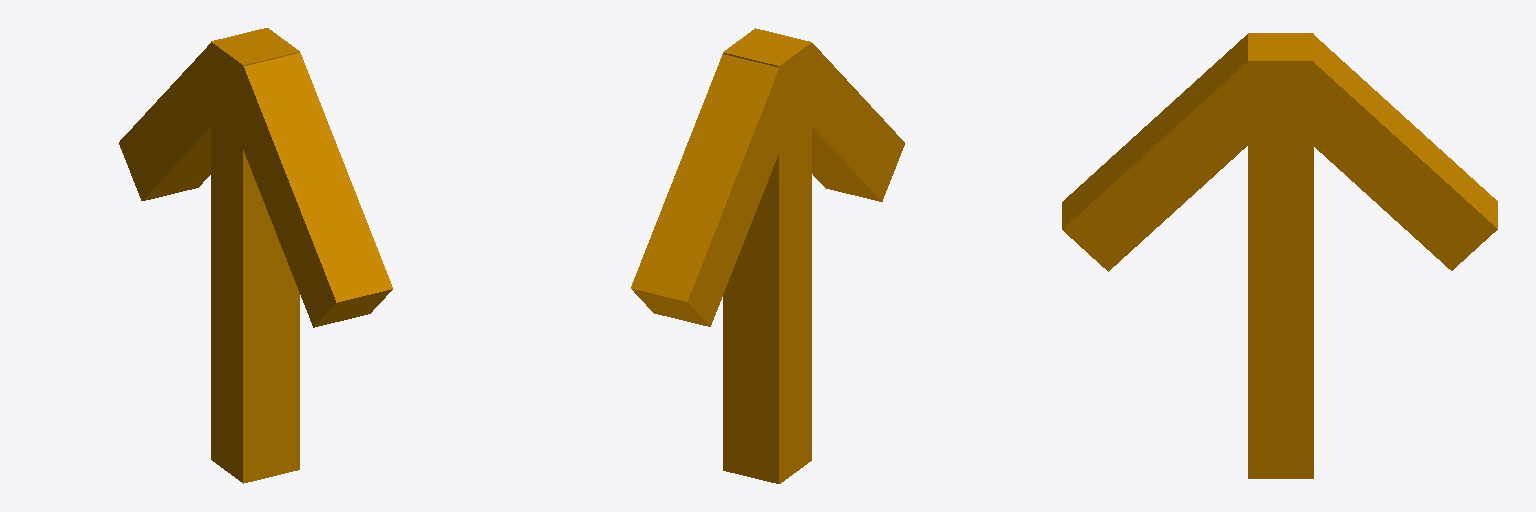
Rendered from arrow.obj.
The picture shows the model from 3 angles: view 1: azimuth 30°, elevation 25°; view 2: azimuth 150°, elevation 25°; view 3: azimuth 270°, elevation 25°; orthographic projection.
Visible parts, largest first — view 1: Cube.001_Cube.002; view 2: Cube.001_Cube.002; view 3: Cube.001_Cube.002.
Boxes of the visible parts, x1=… form: Cube.001_Cube.002: x1=119, y1=28, x2=392, y2=483; Cube.001_Cube.002: x1=631, y1=28, x2=904, y2=483; Cube.001_Cube.002: x1=1062, y1=33, x2=1497, y2=478.
Bounding box in the file's own units: 1 × 7.03 × 6.64.